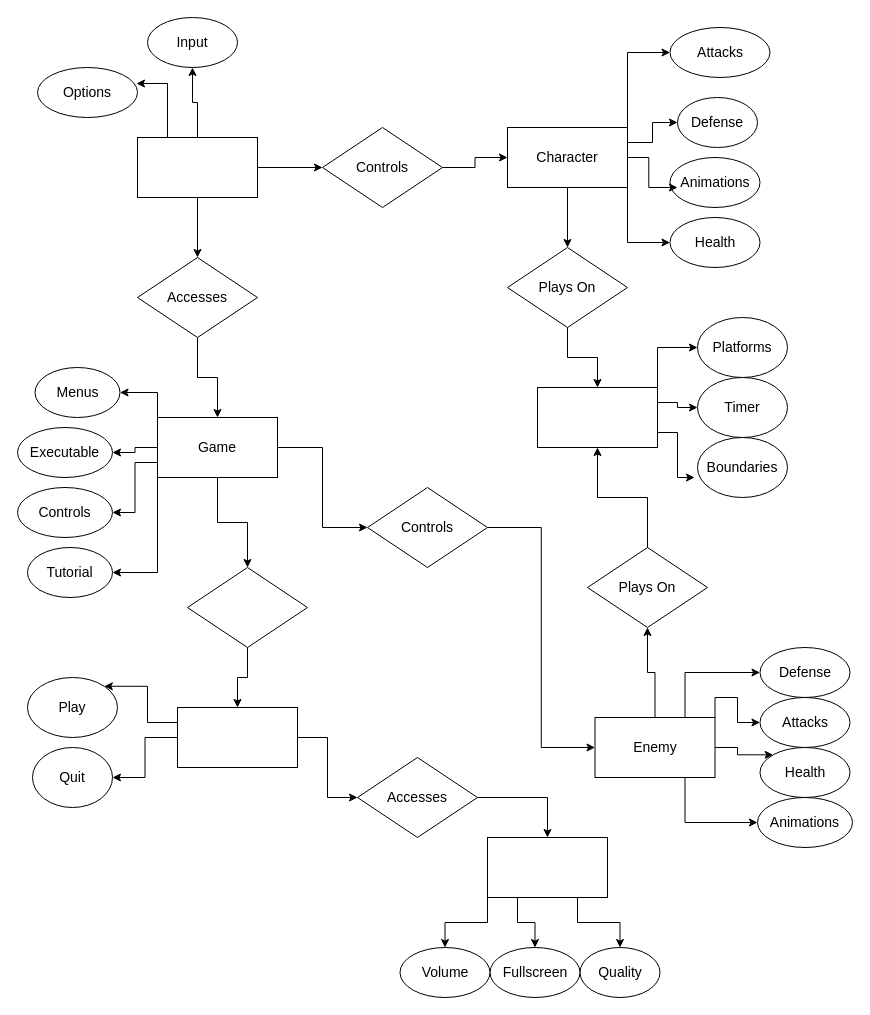
This 870x1015 diagram has some shape labels left out. The shapes that lost their labels are listed below. From the top down, each one's centre as x and y in pixels, then its label:
At pixel 197 167: "Player".
At pixel 597 417: "Stage".
At pixel 247 607: "Includes".
At pixel 237 737: "Main Menu".
At pixel 547 867: "Options Menu".
